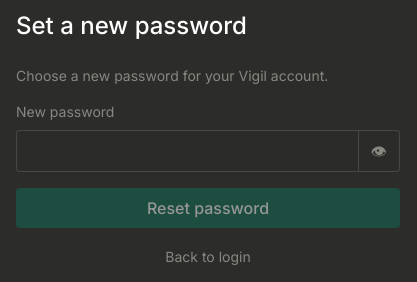
Test case: ResetPasswordPage › submit returns 400 → renders invalid-token UX (D-20 single-bucket; no form)
The width and height of the screenshot is (417, 282).
In the password field labelled "New password": (187, 151) 16,130 -> 359,172, type "ValidNewPass123!"
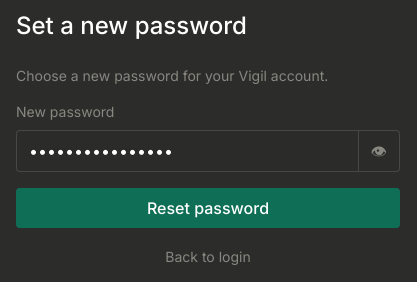
Click the button "Reset password": (208, 208) 16,188 -> 400,228
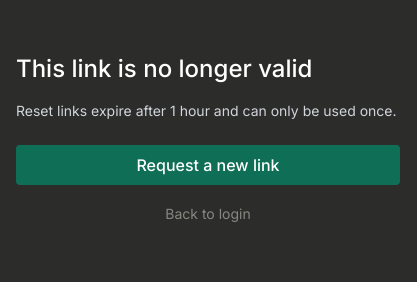
Now the heading "This link is no longer valid" is shown, box 16,54 -> 312,83
Now the heading labelled "new password" is gone
